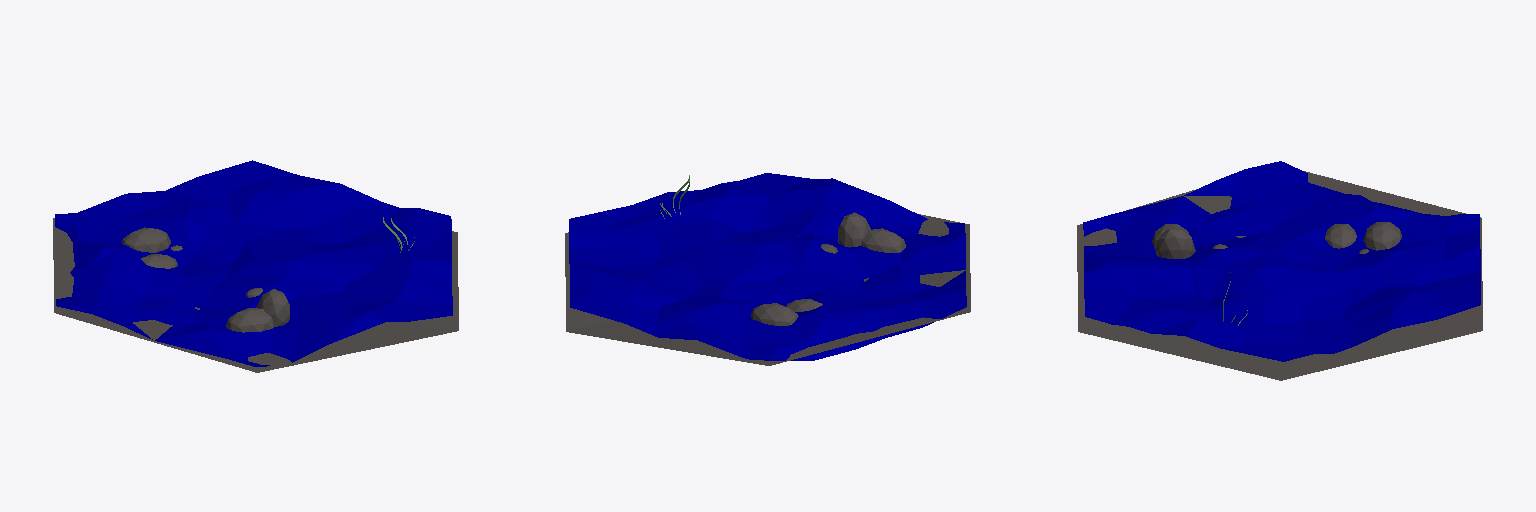
The model's file is recif2.obj.
The picture shows the model from 3 angles: view 1: azimuth 30°, elevation 25°; view 2: azimuth 150°, elevation 25°; view 3: azimuth 270°, elevation 25°; orthographic projection.
Parts seen in each view (by area): view 1: Circle.002; view 2: Circle.002; view 3: Circle.002.
Boxes of the visible parts, box(x1,y1,x2,y2) form: Circle.002: box(53, 160, 458, 372); Circle.002: box(565, 173, 970, 365); Circle.002: box(1077, 161, 1482, 380).
Size of the model in its own units: 1.96 by 0.3373 by 1.7.